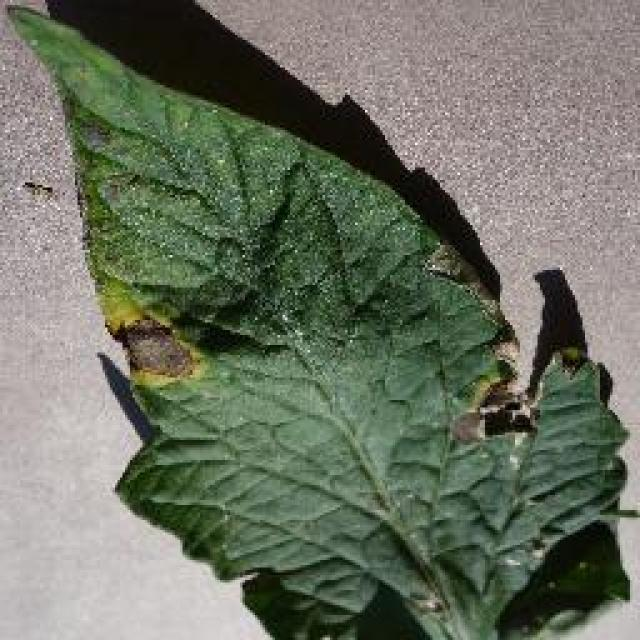Tomato Early blight leaf: (12, 5, 632, 640)
